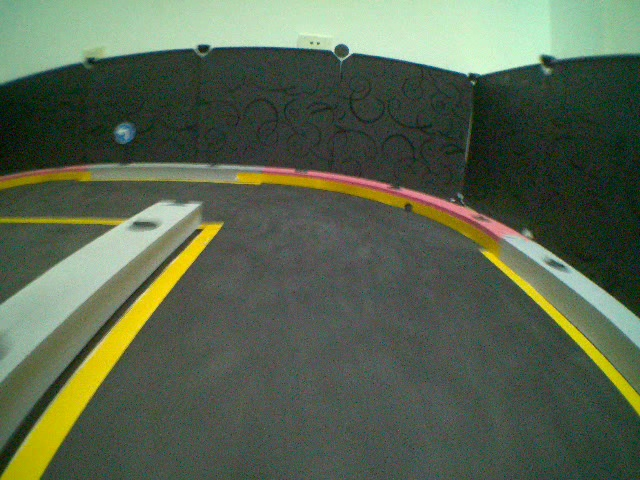turn: (111, 121, 135, 145)
